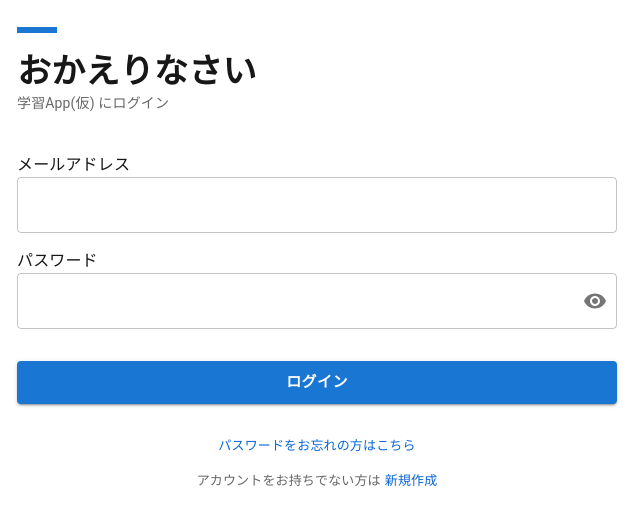
Test case: Login › メールアドレスの形式が不正だとエラーが表示される
The image size is (635, 515).
Type "not-an-email" into the field at (317, 205), box [17,177,617,233]
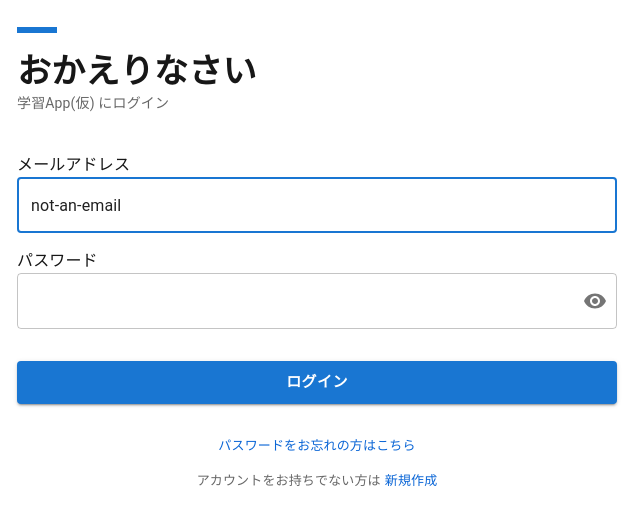
Type "password123" into the password field named "password" at (292, 301), box [17,273,567,329]
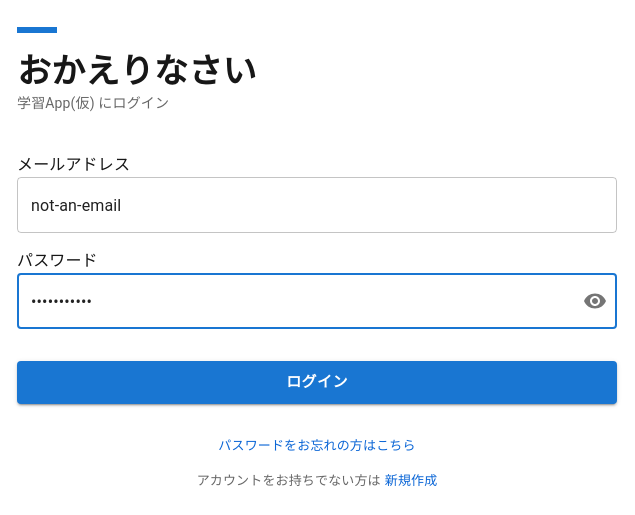
Click the button "ログイン" at (317, 383), box [17,361,617,404]
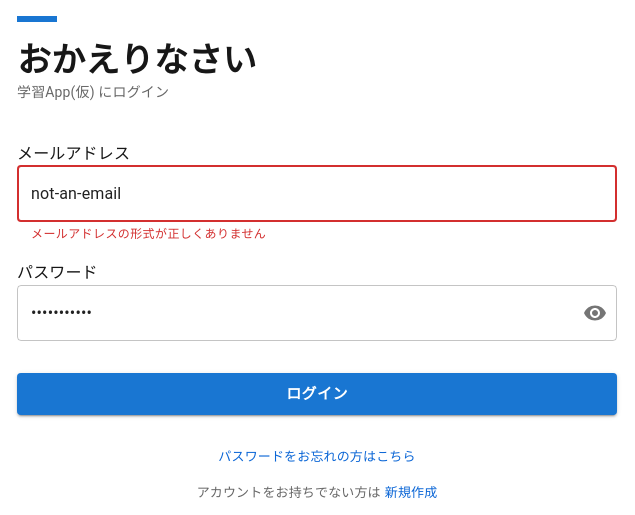
Check: the text "メールアドレスの形式が正しくありません" is shown, box [31,227,266,241]
